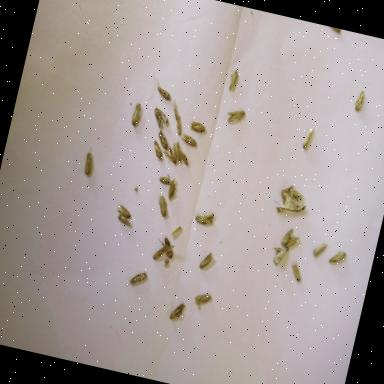pbw: (125, 268, 148, 292), (150, 106, 171, 130), (222, 104, 246, 125), (152, 78, 174, 100), (162, 141, 181, 165), (269, 244, 289, 266), (160, 235, 178, 259), (152, 194, 170, 218), (82, 146, 96, 176), (283, 184, 306, 202), (194, 210, 216, 228), (152, 240, 170, 262), (199, 250, 216, 272), (302, 124, 316, 150), (154, 130, 172, 150), (328, 248, 348, 266), (150, 140, 166, 162), (354, 88, 367, 114), (169, 301, 185, 322), (280, 226, 295, 248), (130, 102, 143, 127), (284, 233, 302, 251), (194, 290, 213, 307), (172, 140, 186, 162), (289, 262, 304, 282), (167, 176, 179, 201), (227, 69, 240, 92), (168, 99, 182, 120), (180, 132, 198, 148), (312, 242, 327, 260), (173, 115, 185, 136), (177, 149, 191, 166), (116, 204, 133, 218), (189, 120, 207, 132), (158, 174, 174, 186), (117, 214, 132, 225), (171, 224, 183, 236)
